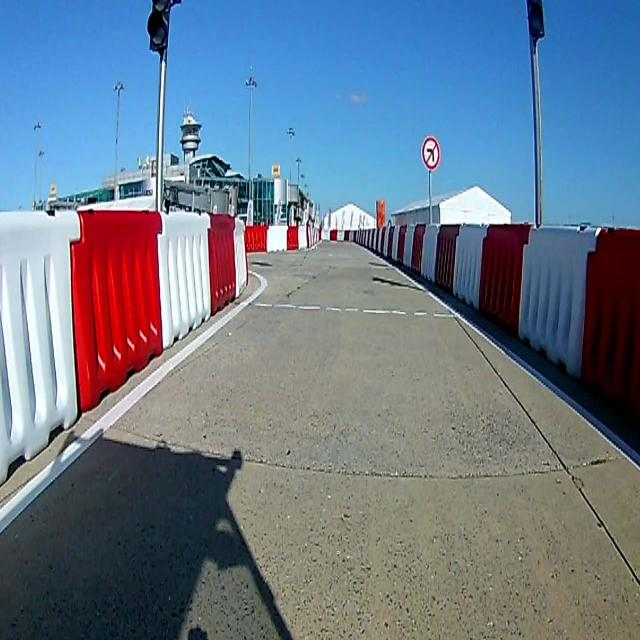soladonulmez: (422, 134, 441, 171)
